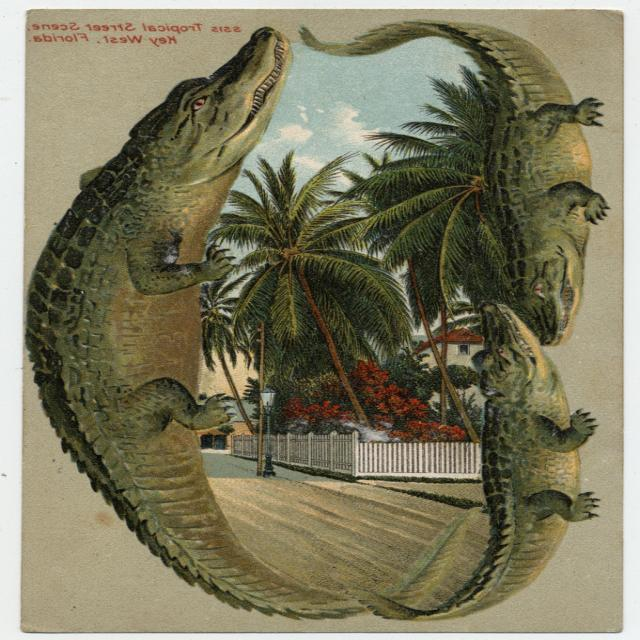crocodile: (30, 30, 349, 620), (348, 23, 613, 344), (369, 300, 598, 622)
